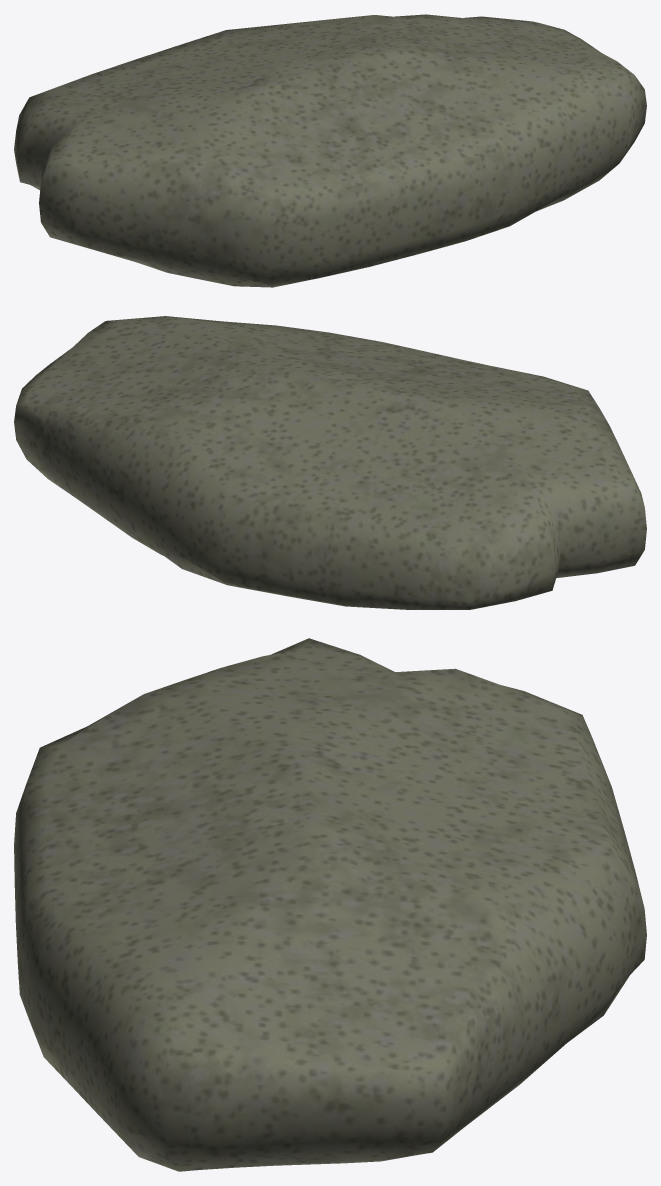
File: jagged_gravel_07.glb
3 views of the same model, one above another, from view 1: azimuth 30°, elevation 25°; view 2: azimuth 150°, elevation 25°; view 3: azimuth 270°, elevation 25° (orthographic). The views are drawn at different scales.
Visible parts, largest first — view 1: jagged_gravel_07; view 2: jagged_gravel_07; view 3: jagged_gravel_07.
Boxes of the visible parts, left/top/right/bottom form: jagged_gravel_07: left=14, top=14, right=646, bottom=287; jagged_gravel_07: left=14, top=316, right=646, bottom=609; jagged_gravel_07: left=14, top=638, right=646, bottom=1171.
Size of the model in its own units: 0.0799 by 0.0208 by 0.0509.
Materials: 1 (1 with a texture image).
